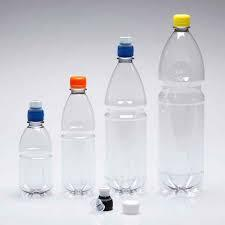Plastic bottle: (156, 13, 208, 201), (106, 32, 147, 191), (60, 77, 97, 201), (17, 97, 57, 200)
